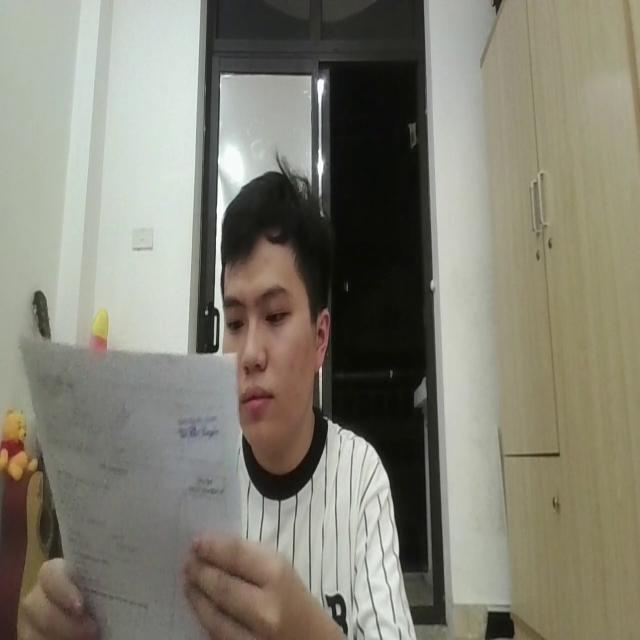book: (20, 311, 252, 640)
student: (222, 159, 420, 640)
